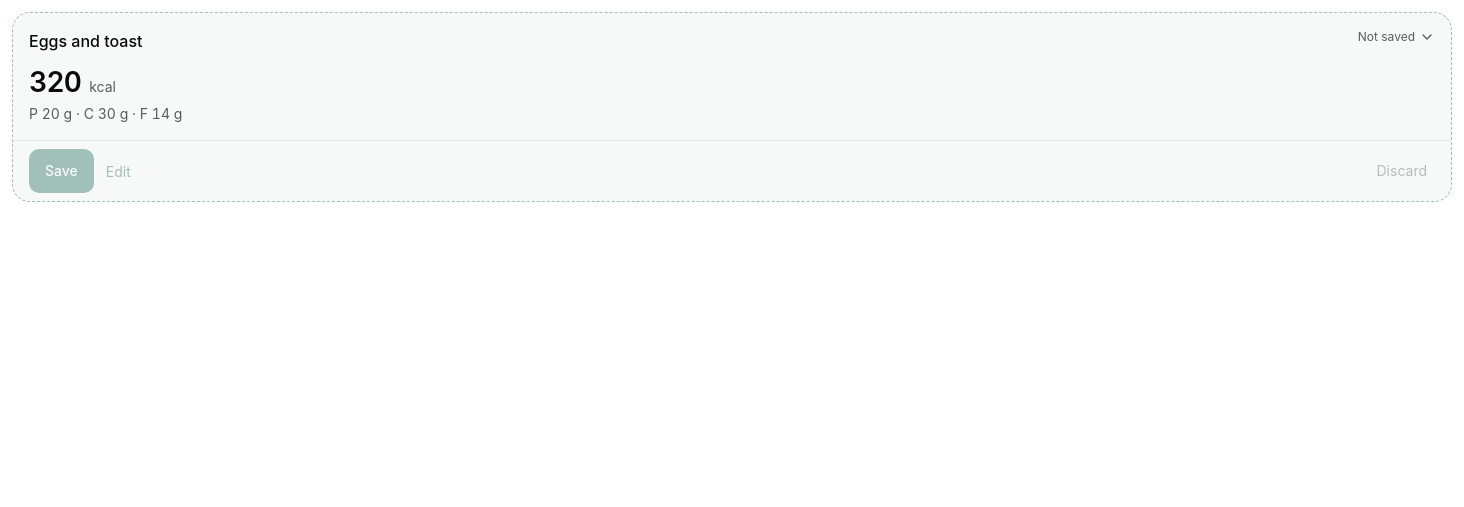
Test: renders the open_food_facts source without turning non-URLs into links
Click the button with aria-label "Expand Eggs and toast" at (732, 76), box [13,13,1451,140]
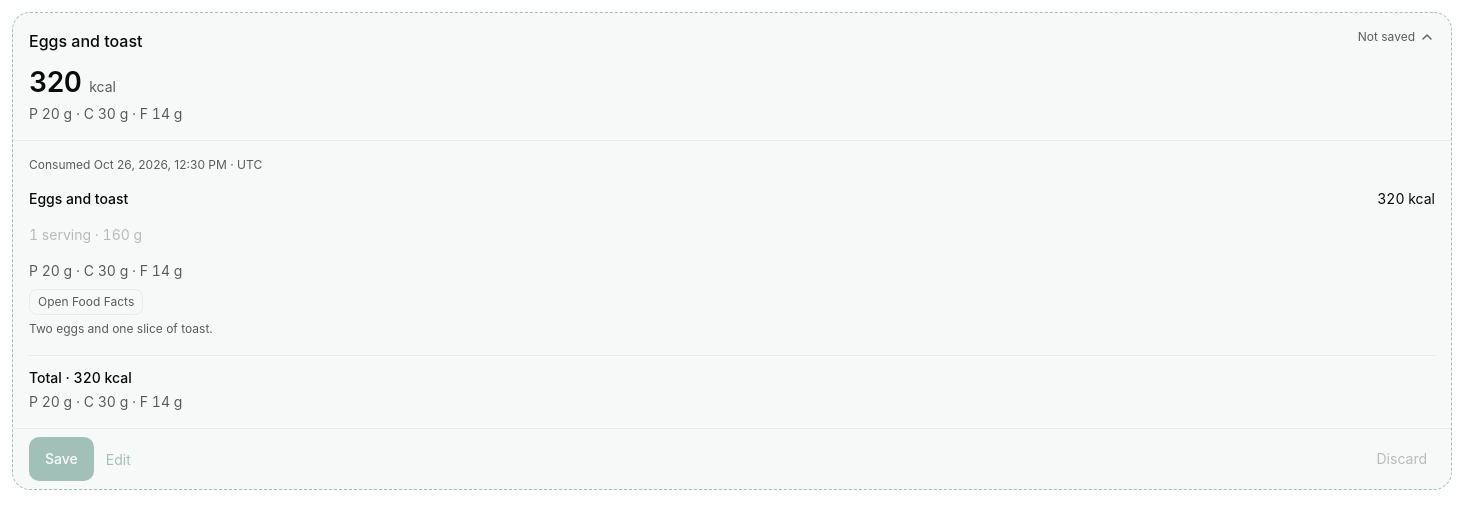
Expected: the text "Open Food Facts" is shown, [29,289,143,315]
